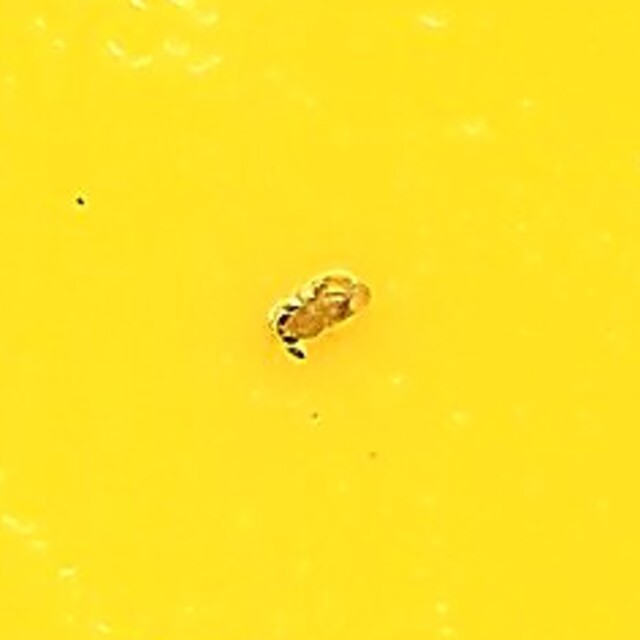Hymenoptera: (271, 276, 369, 364)
